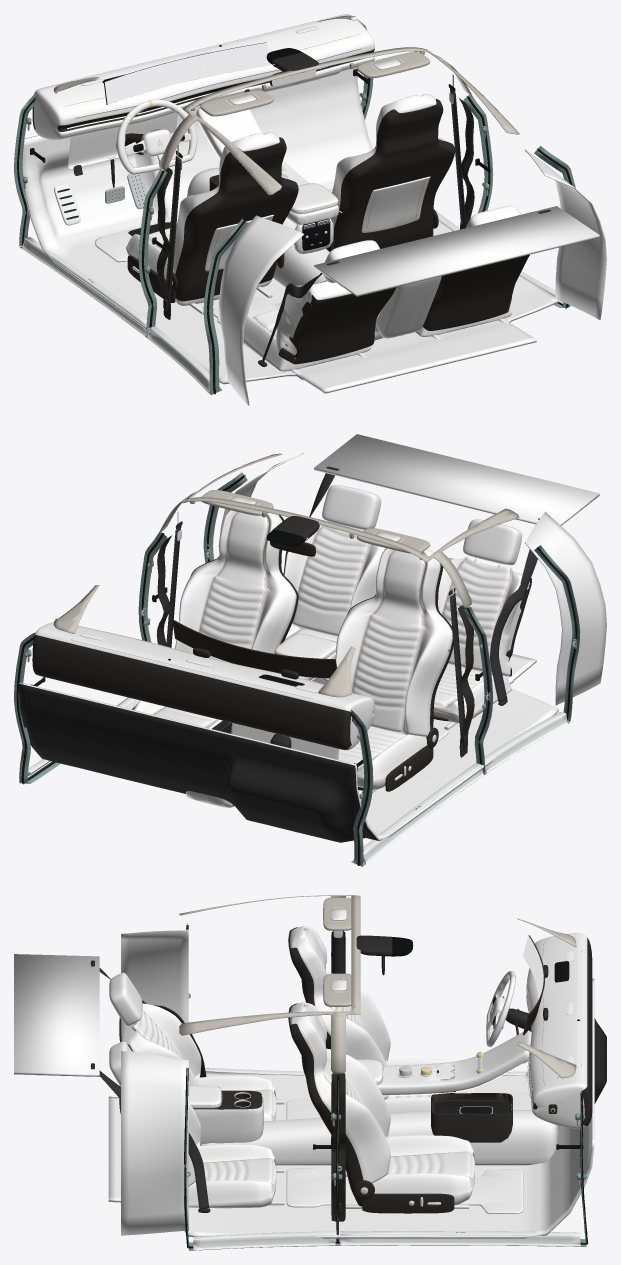
The model's file is cordeau7-cabin.glb.
The picture shows the model from 3 angles, top to bottom: view 1: azimuth 30°, elevation 25°; view 2: azimuth 150°, elevation 25°; view 3: azimuth 270°, elevation 25°; orthographic projection.
Visible parts, largest first — view 1: MDL_cabin_floor, MDL_dash, MDL_parcel_shelf, MDL_seat_FR_shell, MDL_seat_FL_shell, MDL_quarter_trim_L, MDL_seat_RL_shell, MDL_quarter_trim_R, MDL_seat_RR_shell, MDL_headliner, MDL_display_wide, MDL_jamb_L (+32 smaller); view 2: MDL_cabin_floor, MDL_dash, MDL_seat_FL_back, MDL_seat_FR_back, MDL_parcel_shelf, MDL_seat_RR_back, MDL_quarter_trim_L, MDL_seat_RL_back, MDL_headliner, MDL_jamb_L, MDL_display_wide, MDL_jamb_R (+20 smaller); view 3: MDL_cabin_floor, MDL_quarter_trim_R, MDL_parcel_shelf, MDL_dash, MDL_cabin_tunnel, MDL_seat_FR_back, MDL_seat_FR_cushion, MDL_quarter_trim_L, MDL_seat_RR_cushion, MDL_headliner, MDL_seat_FL_back, MDL_bridge (+29 smaller).
Boxes of the visible parts, box(x1,y1,x2,y2) form: MDL_cabin_floor: box(22, 67, 558, 393); MDL_dash: box(32, 14, 374, 139); MDL_parcel_shelf: box(314, 206, 599, 296); MDL_seat_FR_shell: box(333, 99, 455, 248); MDL_seat_FL_shell: box(175, 137, 298, 301); MDL_quarter_trim_L: box(218, 215, 303, 405); MDL_seat_RL_shell: box(278, 287, 396, 364); MDL_quarter_trim_R: box(525, 149, 606, 319); MDL_seat_RR_shell: box(422, 254, 529, 330); MDL_headliner: box(53, 15, 519, 195); MDL_display_wide: box(103, 42, 269, 104); MDL_jamb_L: box(14, 93, 247, 394); MDL_cabin_floor: box(18, 654, 558, 842); MDL_dash: box(32, 622, 374, 750); MDL_seat_FL_back: box(335, 548, 452, 736); MDL_seat_FR_back: box(175, 510, 296, 662); MDL_parcel_shelf: box(314, 434, 599, 525); MDL_seat_RR_back: box(284, 525, 385, 636); MDL_quarter_trim_L: box(525, 511, 606, 705); MDL_seat_RL_back: box(438, 556, 529, 676); MDL_headliner: box(53, 453, 519, 697); MDL_jamb_L: box(351, 545, 580, 866); MDL_display_wide: box(172, 619, 336, 678); MDL_jamb_R: box(14, 472, 247, 783); MDL_cabin_floor: box(108, 978, 606, 1238); MDL_quarter_trim_R: box(121, 1051, 188, 1235); MDL_parcel_shelf: box(14, 954, 99, 1076); MDL_dash: box(526, 933, 592, 1128); MDL_cabin_tunnel: box(200, 1110, 558, 1165); MDL_seat_FR_back: box(290, 1002, 390, 1183); MDL_seat_FR_cushion: box(360, 1135, 474, 1211); MDL_quarter_trim_L: box(121, 929, 188, 1022); MDL_seat_RR_cushion: box(188, 1144, 276, 1208); MDL_headliner: box(179, 895, 576, 1078); MDL_seat_FL_back: box(290, 926, 390, 1099); MDL_bridge: box(377, 1030, 531, 1094).
Size of the model in its own units: 1.92 by 1.09 by 2.63.
